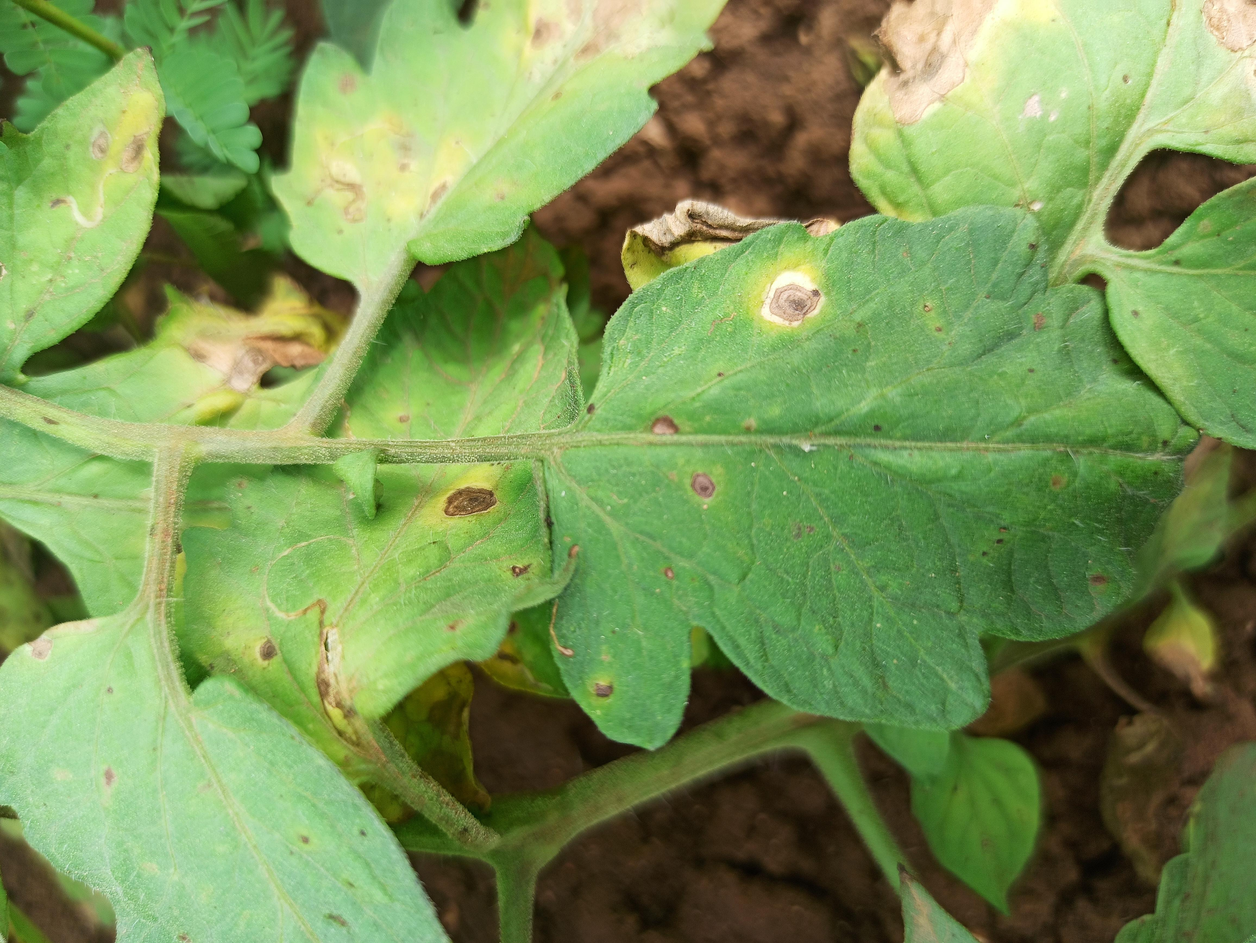Early Blight: (55, 192, 696, 731), (517, 657, 985, 943)
